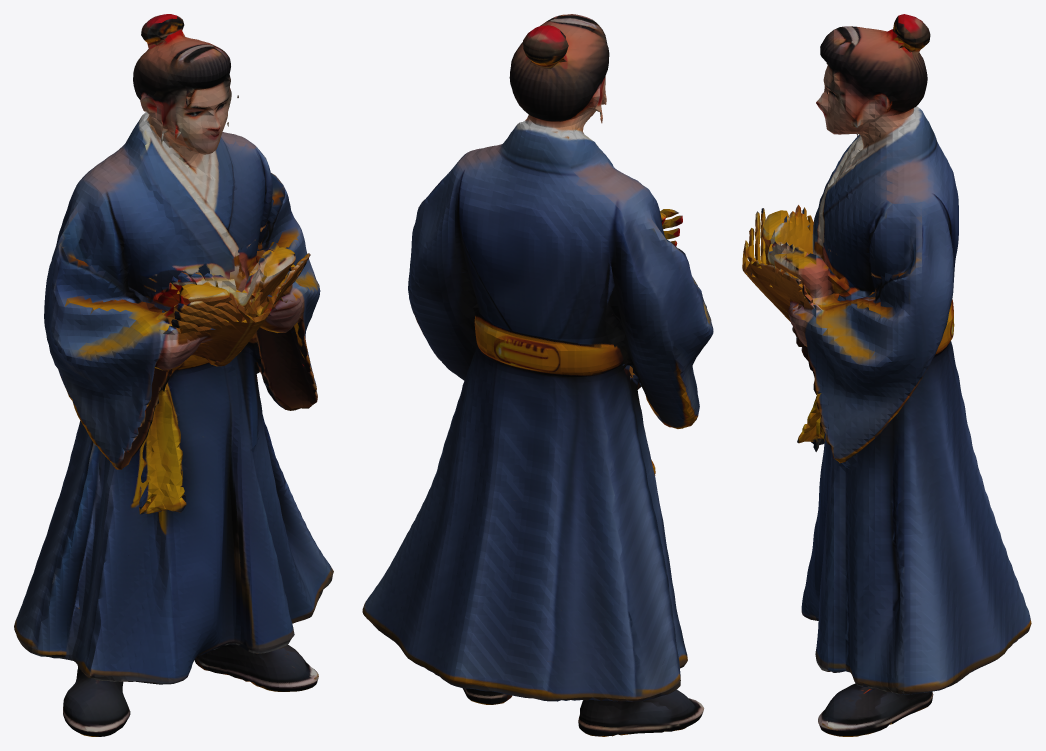
File: body.glb
3 views of the same model, side by side, from view 1: azimuth 30°, elevation 25°; view 2: azimuth 150°, elevation 25°; view 3: azimuth 270°, elevation 25° (orthographic). The views are drawn at different scales.
Parts seen in each view (by area): view 1: geometry_0; view 2: geometry_0; view 3: geometry_0.
Part boxes in pixels (bbox=[...]): geometry_0: bbox=[14, 14, 333, 736]; geometry_0: bbox=[362, 14, 713, 736]; geometry_0: bbox=[742, 14, 1031, 736].
Size of the model in its own units: 0.9246 by 1.96 by 0.7712.
1 material, 1 textured.
